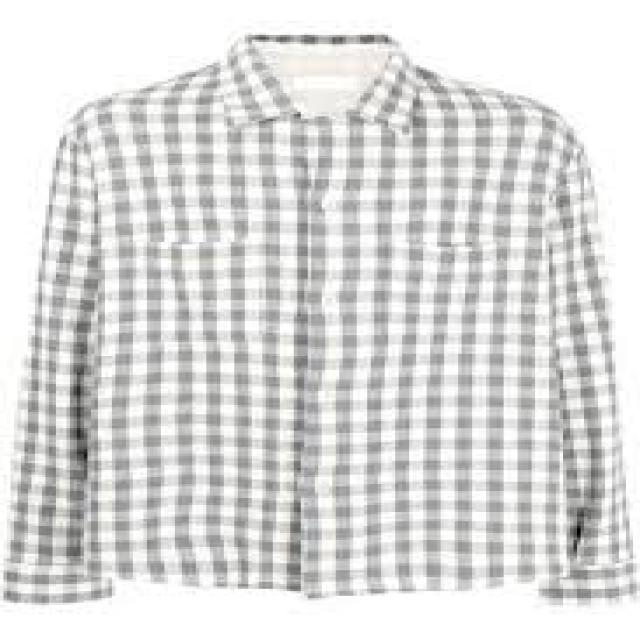plaid: (18, 29, 631, 616)
